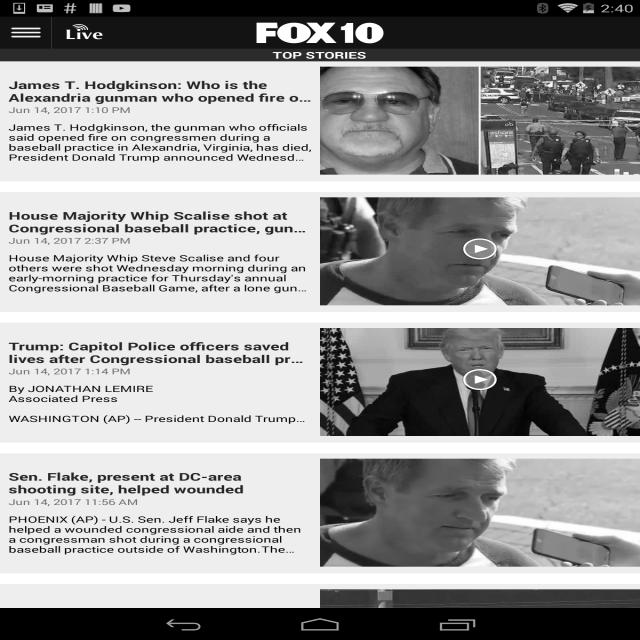ImageView: (320, 62, 640, 182), (320, 193, 640, 313), (320, 324, 640, 444), (320, 454, 640, 574), (320, 585, 640, 640), (256, 18, 384, 47), (238, 16, 289, 48), (0, 16, 51, 48), (58, 16, 109, 48), (238, 580, 289, 608), (461, 237, 499, 261), (461, 368, 499, 392), (252, 346, 273, 360), (252, 520, 273, 534), (252, 549, 273, 563)
TextView: (0, 24, 238, 41), (0, 256, 199, 276), (8, 104, 312, 116), (0, 169, 180, 188), (8, 235, 312, 246), (8, 497, 312, 508), (0, 314, 162, 334), (0, 286, 179, 304), (8, 366, 312, 376), (0, 82, 159, 101), (0, 227, 141, 246), (0, 112, 145, 130), (0, 140, 130, 160), (0, 53, 108, 72), (0, 372, 95, 392), (0, 576, 105, 594), (0, 459, 95, 478), (0, 402, 80, 421), (0, 343, 72, 362), (0, 488, 70, 507), (0, 198, 66, 218), (0, 430, 65, 450), (0, 546, 58, 566), (272, 49, 367, 61), (0, 518, 54, 536)
